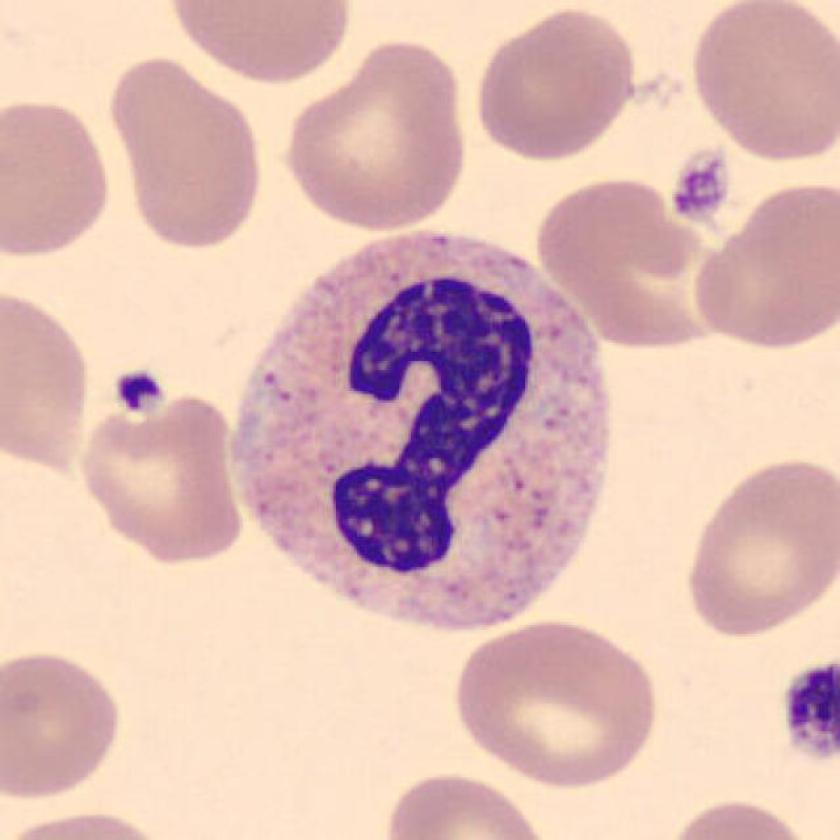neutrophil: (230, 232, 612, 627)
